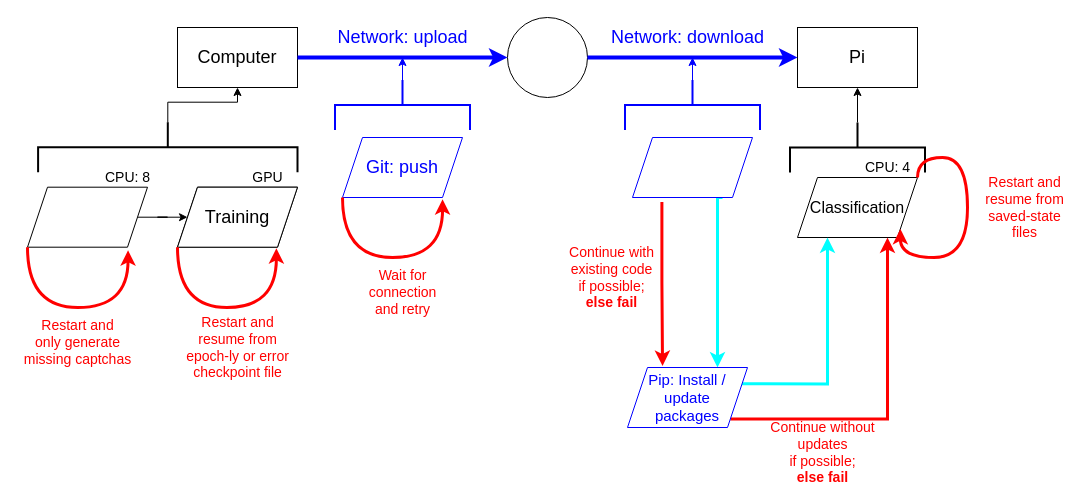
Image size: 1086x503. Some labels were removed from this diagram. The shapes that lost their labels are listed below. From the top down, each one's centre as x and y in pixels, then its label:
[547,57]: Bitbucket
[692,167]: Git: pull / clone
[87,216]: Generation
